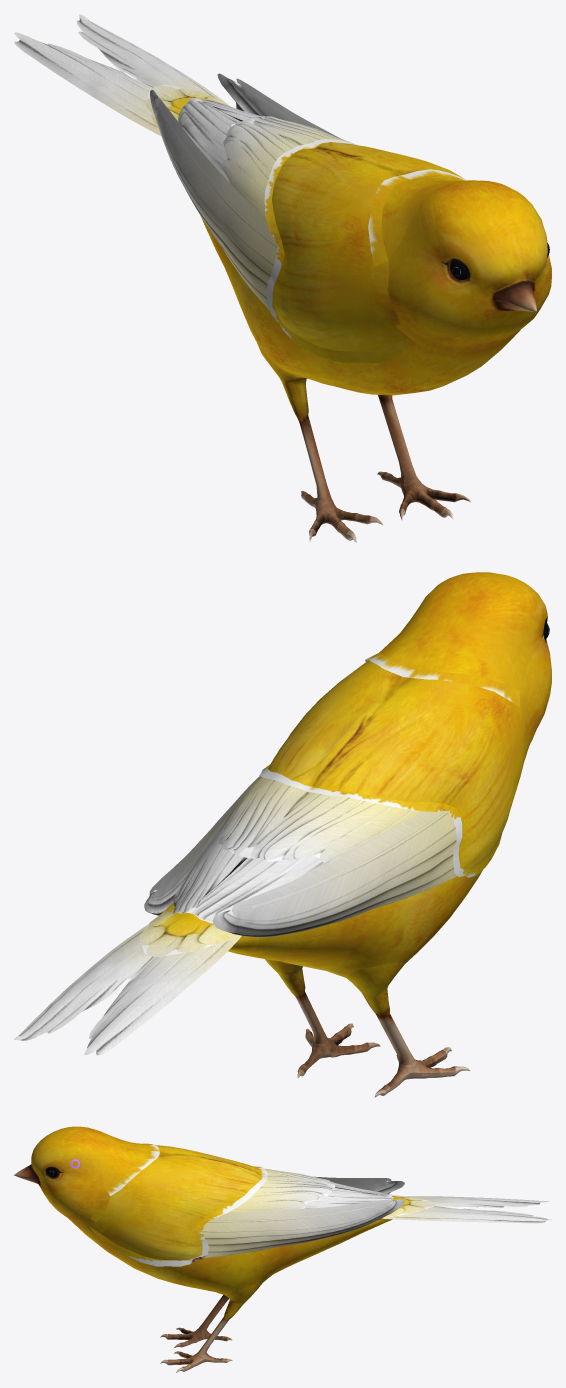
File: sparrow.glb
3 renders of one model, top to bottom at view 1: azimuth 30°, elevation 25°; view 2: azimuth 150°, elevation 25°; view 3: azimuth 270°, elevation 25°, orthographic. The views are drawn at different scales.
Visible parts, largest first — view 1: model; view 2: model; view 3: model.
Boxes of the visible parts, box(x1,y1,x2,y2) form: model: box(14, 14, 551, 542); model: box(14, 572, 551, 1097); model: box(14, 1126, 551, 1372).
Size of the model in its own units: 0.0389 by 0.0762 by 0.1681.
Materials: 4 (4 with a texture image).
